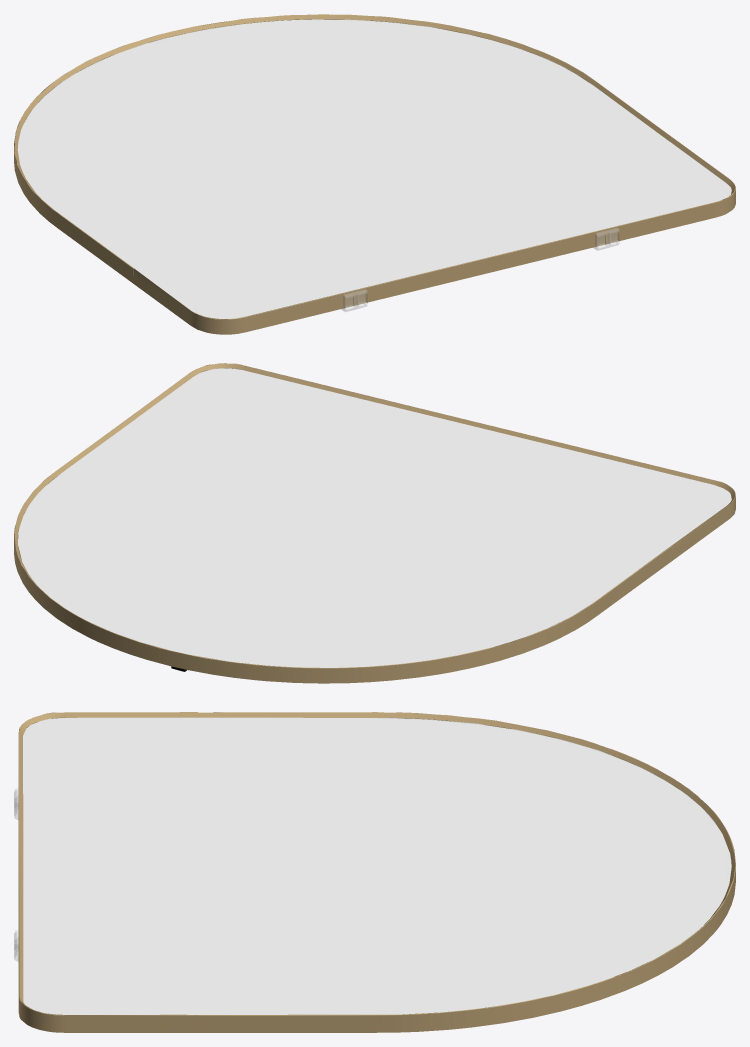
3 renders of one model, top to bottom at view 1: azimuth 30°, elevation 25°; view 2: azimuth 150°, elevation 25°; view 3: azimuth 270°, elevation 25°, orthographic. The views are drawn at different scales.
Parts seen in each view (by area): view 1: ASY_ART_00633936_S01_NV01; view 2: ASY_ART_00633936_S01_NV01; view 3: ASY_ART_00633936_S01_NV01.
Part boxes in pixels (left/top/right/bottom): ASY_ART_00633936_S01_NV01: left=14, top=14, right=735, bottom=334; ASY_ART_00633936_S01_NV01: left=14, top=363, right=735, bottom=683; ASY_ART_00633936_S01_NV01: left=14, top=712, right=735, bottom=1032.
Size of the model in its own units: 0.8 by 0.0387 by 0.8054.
Materials: 2 (2 with a texture image).
